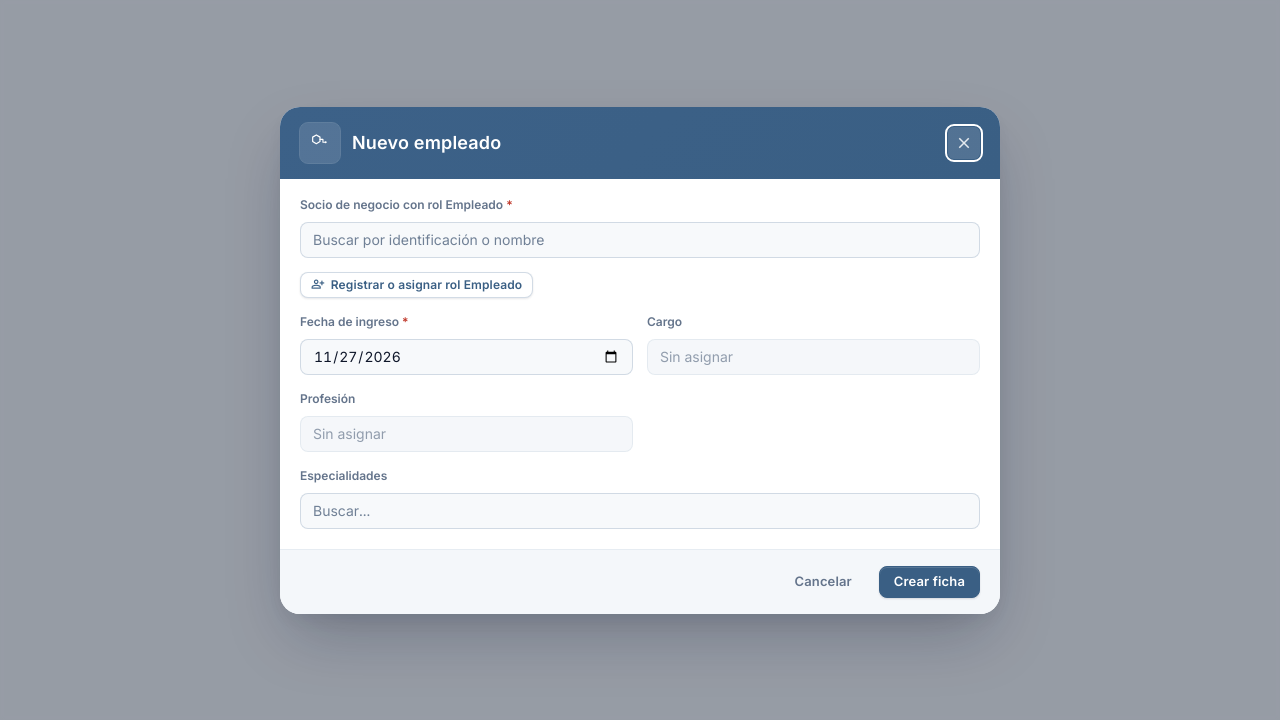
Scenario: alta de empleado › exige socio y fecha antes de enviar
Clear the date field labelled "Fecha de ingreso*": [466, 356] box [300, 338, 633, 374]
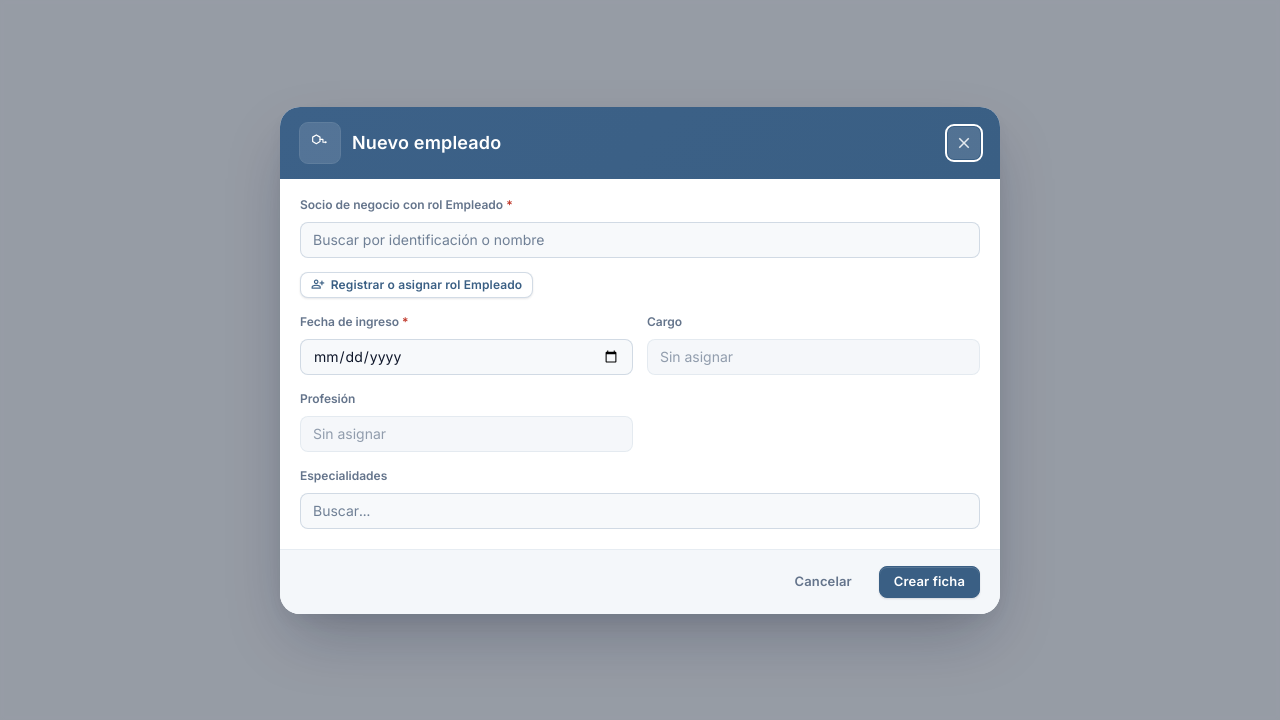
Click the button "Crear ficha": [929, 582] box [879, 566, 980, 598]
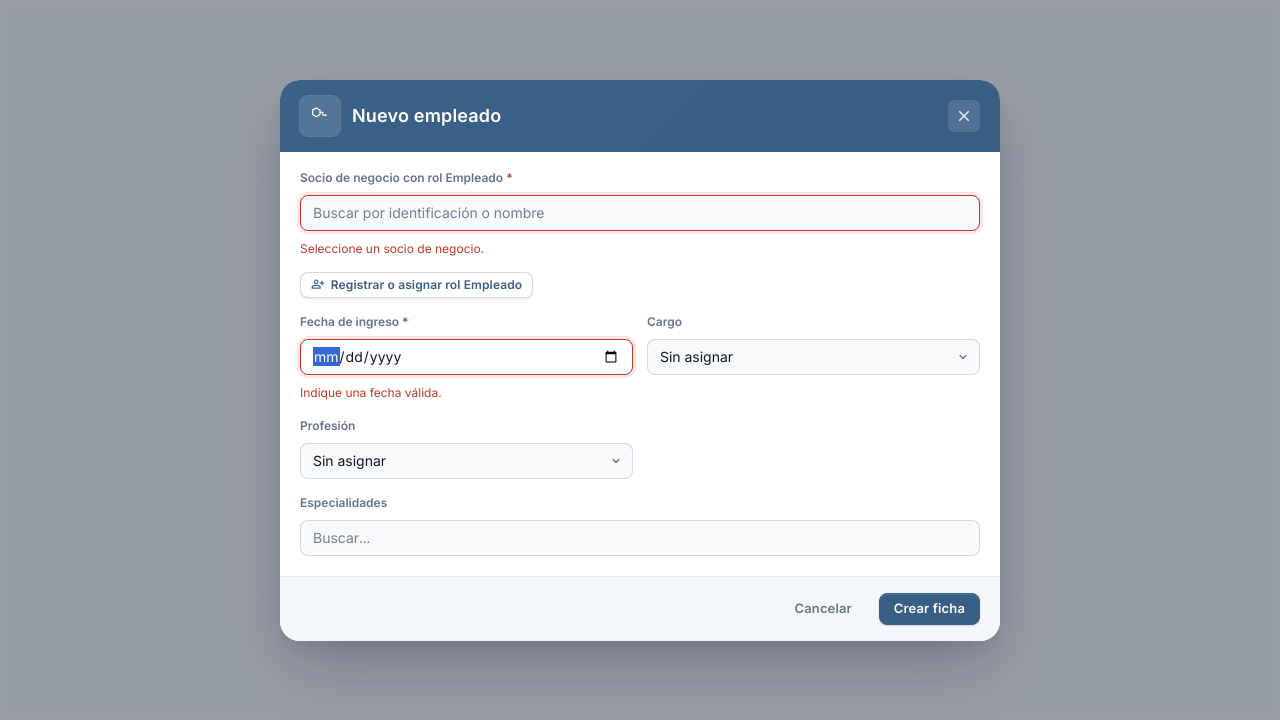
Expected: the text "Seleccione un socio de negocio." is shown, [300, 240, 484, 256]
Expected: the text "Indique una fecha válida." is shown, [300, 384, 442, 400]
